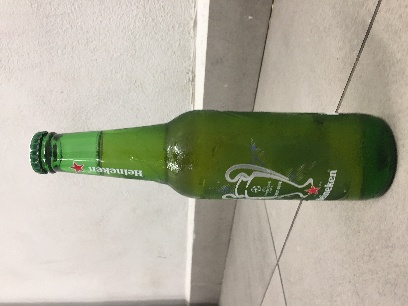HB: (21, 78, 290, 150)
